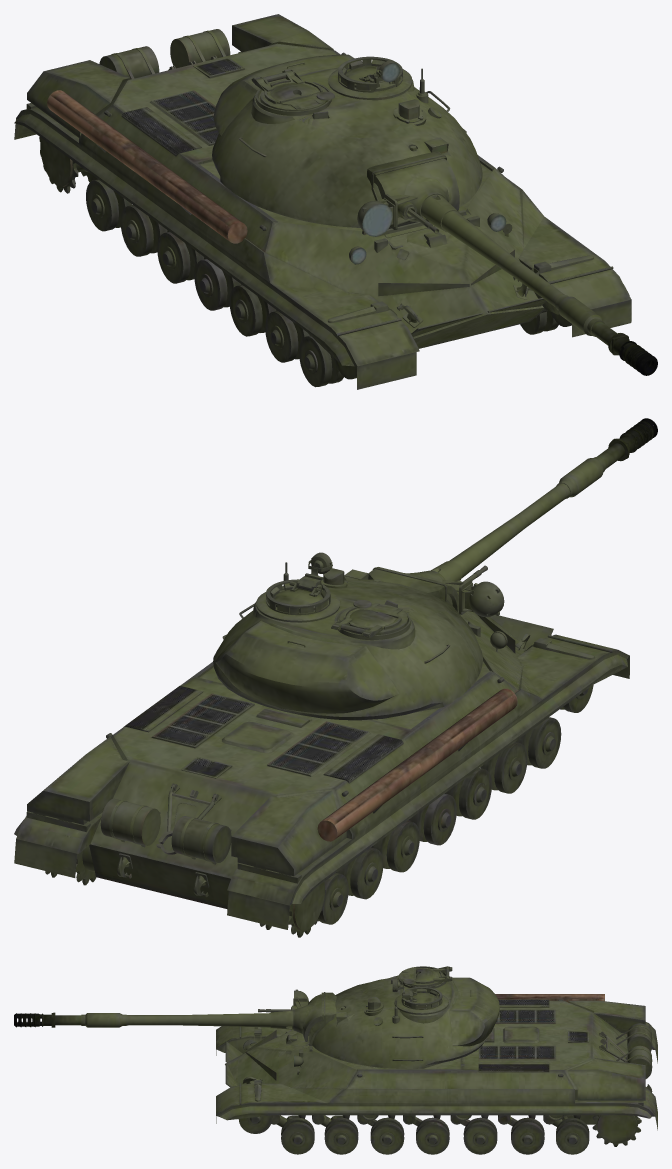
The picture shows the model from 3 angles, top to bottom: view 1: azimuth 30°, elevation 25°; view 2: azimuth 150°, elevation 25°; view 3: azimuth 270°, elevation 25°; orthographic projection. The views are drawn at different scales.
Visible parts, largest first — view 1: Wanne, turret, cannon, radL3, radL2, radL5, radL4, radL1, radL6, radL7, radL0, radR7; view 2: Wanne, turret, cannon, radL4, radL3, radL6, radL5, radL2, radL7, radL0, radL1; view 3: Wanne, turret, cannon, radR0, radR7, radR6, radR1, radR3, radR5, radR2, radR4, radR8.
Boxes of the visible parts, <box> form: Wanne: <box>14,14,631,389</box>; turret: <box>212,54,482,236</box>; cannon: <box>424,210,657,375</box>; radL3: <box>157,231,206,283</box>; radL2: <box>120,205,168,256</box>; radL5: <box>229,284,276,336</box>; radL4: <box>194,259,241,310</box>; radL1: <box>86,179,132,231</box>; radL6: <box>265,310,309,362</box>; radL7: <box>299,335,343,387</box>; radL0: <box>39,137,97,193</box>; radR7: <box>520,310,558,334</box>; Wanne: <box>14,611,629,929</box>; turret: <box>213,552,504,720</box>; cannon: <box>449,418,657,577</box>; radL4: <box>408,793,456,845</box>; radL3: <box>371,820,419,872</box>; radL6: <box>480,742,527,793</box>; radL5: <box>445,768,491,819</box>; radL2: <box>336,847,383,899</box>; radL7: <box>515,717,561,768</box>; radL0: <box>259,881,325,937</box>; radL1: <box>317,873,348,924</box>; Wanne: <box>216,994,657,1130</box>; turret: <box>270,966,499,1068</box>; cannon: <box>14,1009,270,1027</box>; radR0: <box>592,1115,641,1146</box>; radR7: <box>281,1116,314,1154</box>; radR6: <box>324,1116,358,1154</box>; radR1: <box>556,1116,589,1154</box>; radR3: <box>463,1117,497,1154</box>; radR5: <box>370,1117,404,1154</box>; radR2: <box>511,1117,544,1154</box>; radR4: <box>416,1117,449,1154</box>; radR8: <box>238,1115,272,1133</box>.
Size of the model in its own units: 3.56 by 2.72 by 10.64.
1 material, 1 textured.
